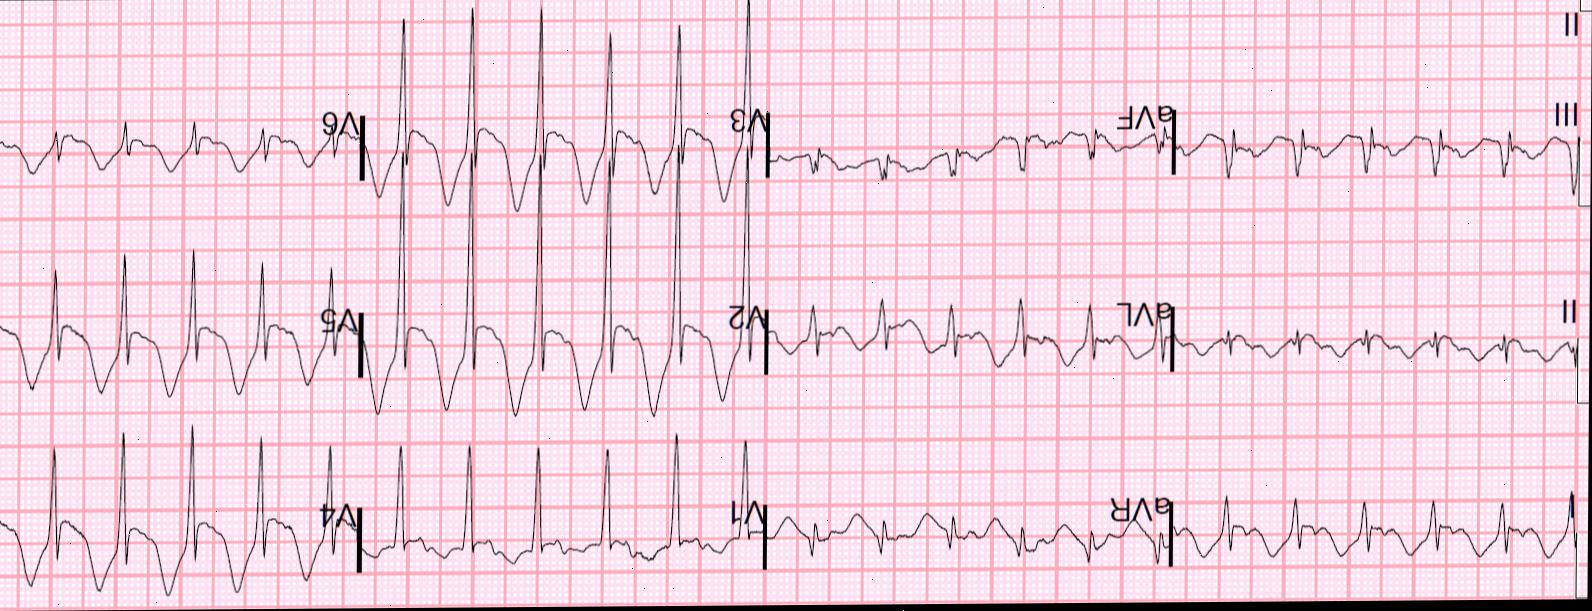Lead_I: (1170, 472, 1585, 588)
Lead_II: (1172, 279, 1590, 409)
Lead_III: (1172, 82, 1590, 216)
Lead_V1: (366, 428, 770, 597)
Lead_V2: (360, 144, 770, 431)
Lead_V3: (363, 0, 773, 221)
Lead_V4: (0, 418, 363, 611)
Lead_V5: (0, 229, 361, 405)
Lead_V6: (0, 59, 366, 203)
Lead_aVF: (768, 80, 1172, 202)
Lead_aVL: (766, 279, 1176, 404)
Lead_aVR: (767, 470, 1175, 595)
